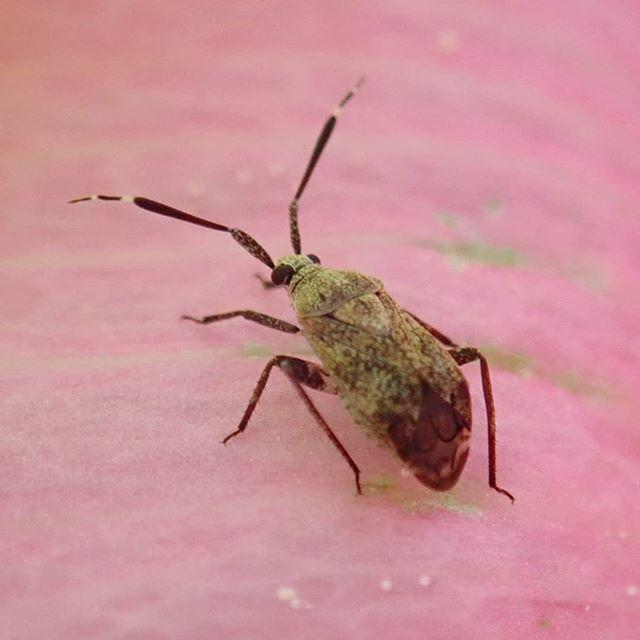Miridae-Adult-: (55, 69, 519, 510)
